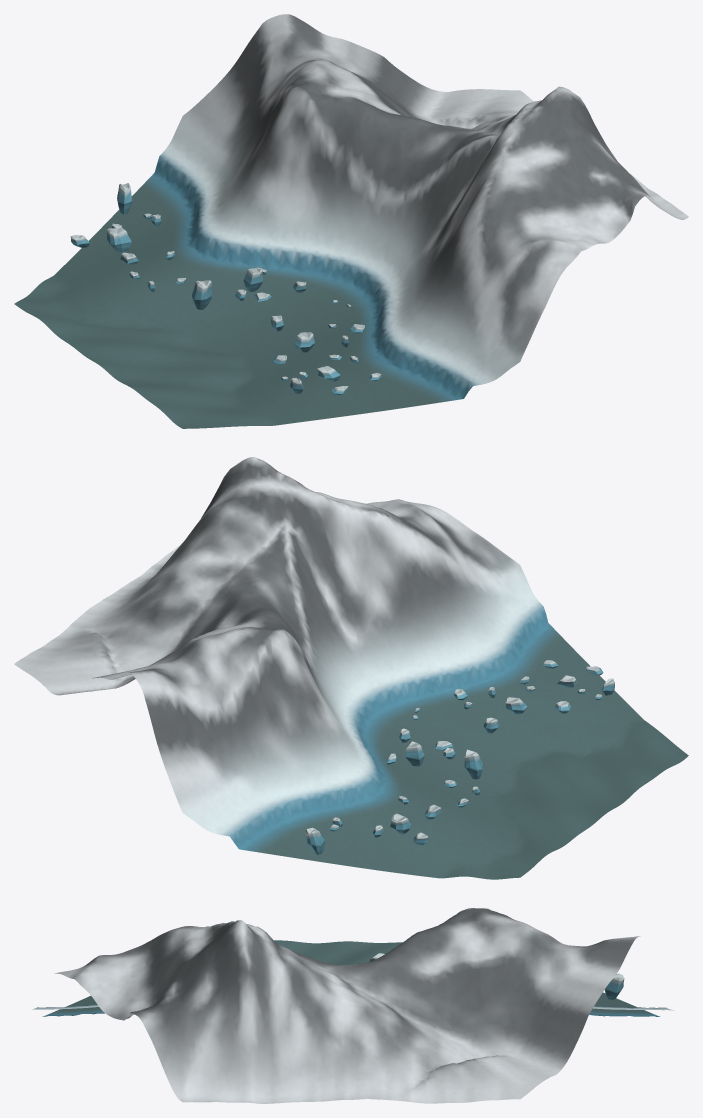
File: glacial-v02.glb
3 views of the same model, one above another, from view 1: azimuth 30°, elevation 25°; view 2: azimuth 150°, elevation 25°; view 3: azimuth 270°, elevation 25° (orthographic).
Visible parts, largest first — view 1: terrain, Gelo à deriva; view 2: terrain, Gelo à deriva; view 3: terrain, Gelo à deriva.
Part boxes in pixels (x1,y1,x2,y2): terrain: [14, 14, 688, 428]; Gelo à deriva: [70, 183, 381, 395]; terrain: [14, 457, 688, 879]; Gelo à deriva: [305, 660, 614, 854]; terrain: [32, 908, 674, 1103]; Gelo à deriva: [369, 953, 624, 999].
Size of the model in its own units: 4330 by 1811 by 5000.
2 materials, 2 textured.
